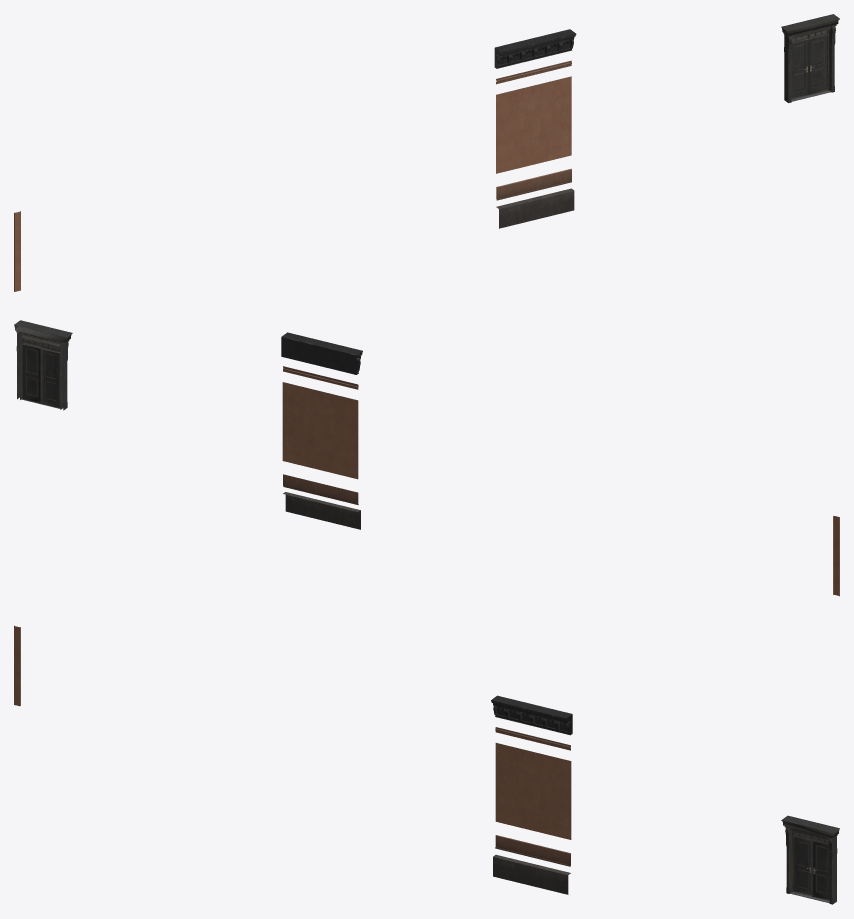
The model's file is facade_kit.glb.
The picture shows the model from 3 angles, top to bottom: view 1: azimuth 30°, elevation 25°; view 2: azimuth 150°, elevation 25°; view 3: azimuth 330°, elevation 25°; orthographic projection.
Parts seen in each view (by area): view 1: wall_standard_standard_01, door_centered_large_01, crown_standard_standard_01, base_standard_01, dado_standard_standard_01, wall_pier_standard_01; view 2: wall_standard_standard_01, door_centered_large_01, crown_standard_standard_01, base_standard_01, dado_standard_standard_01, wall_pier_standard_01; view 3: wall_standard_standard_01, door_centered_large_01, crown_standard_standard_01, base_standard_01, dado_standard_standard_01, wall_pier_standard_01.
Boxes of the visible parts, box(x1,y1,x2,y2) form: wall_standard_standard_01: box(496, 76, 571, 173); door_centered_large_01: box(781, 14, 839, 102); crown_standard_standard_01: box(494, 29, 576, 68); base_standard_01: box(496, 188, 574, 228); dado_standard_standard_01: box(496, 168, 571, 200); wall_pier_standard_01: box(14, 211, 20, 291); wall_standard_standard_01: box(282, 382, 358, 479); door_centered_large_01: box(14, 320, 72, 410); crown_standard_standard_01: box(281, 332, 362, 374); base_standard_01: box(283, 492, 360, 529); dado_standard_standard_01: box(283, 474, 358, 504); wall_pier_standard_01: box(833, 516, 839, 596); wall_standard_standard_01: box(495, 743, 571, 839); door_centered_large_01: box(781, 815, 839, 904); crown_standard_standard_01: box(491, 695, 572, 735); base_standard_01: box(493, 854, 570, 894); dado_standard_standard_01: box(495, 835, 570, 866); wall_pier_standard_01: box(14, 625, 20, 706).
Bounding box in the file's own units: 32.67 × 6.75 × 0.57.
5 materials, 5 textured.
